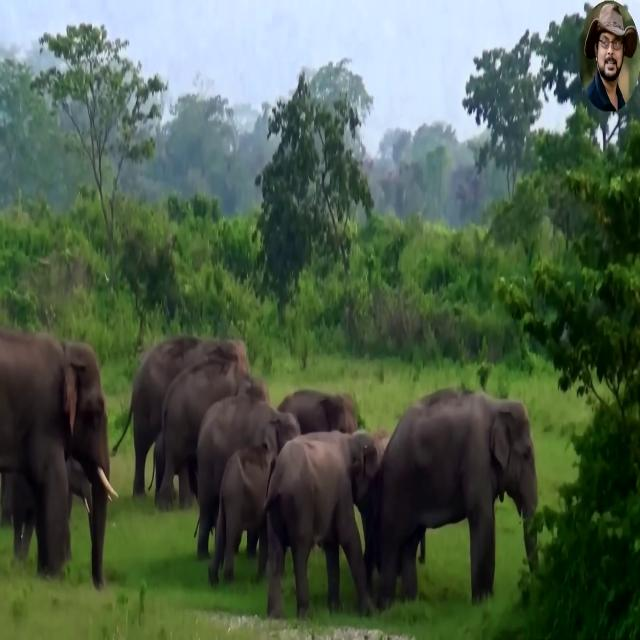Elephant: (373, 385, 540, 611), (0, 328, 118, 590), (110, 335, 250, 501), (262, 428, 380, 620)
